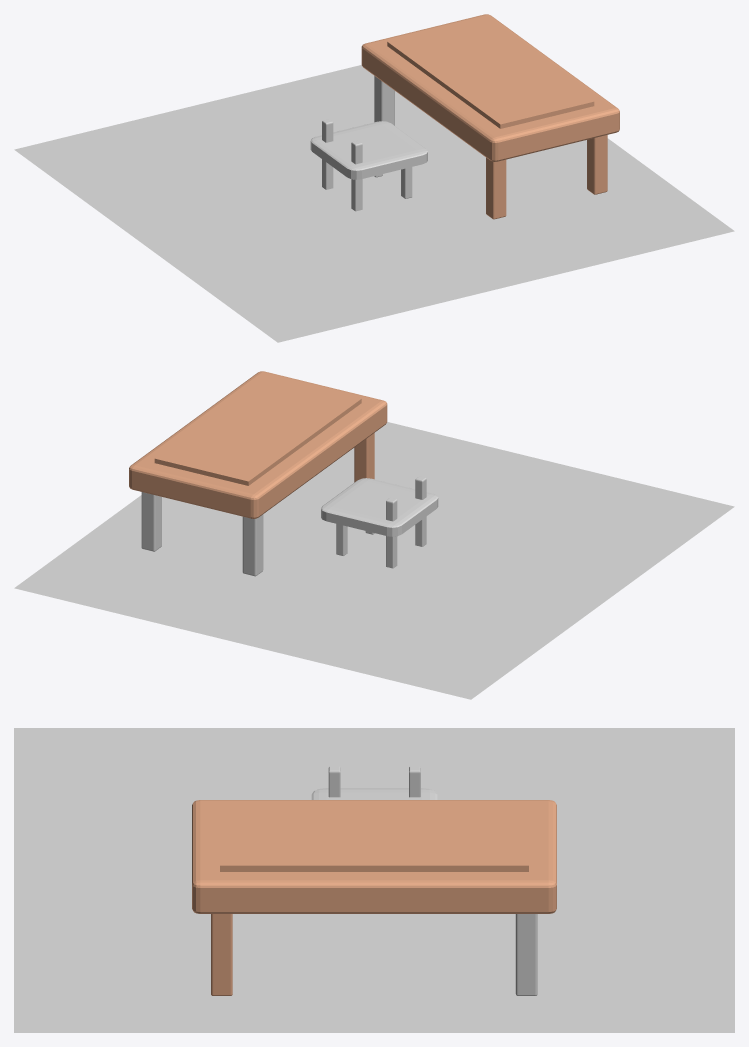
File: desk.glb
The picture shows the model from 3 angles, top to bottom: view 1: azimuth 30°, elevation 25°; view 2: azimuth 150°, elevation 25°; view 3: azimuth 270°, elevation 25°; orthographic projection. The views are drawn at different scales.
Visible parts, largest first — view 1: Plane, Cube, Cube.005, Cube.002, Cube.003, Cube.004, Cube.008, Cube.009; view 2: Plane, Cube, Cube.005, Cube.004, Cube.001, Cube.002, Cube.009, Cube.008; view 3: Plane, Cube, Cube.001, Cube.003, Cube.005.
Boxes of the visible parts, bbox=[...] form: Plane: bbox=[14, 65, 734, 342]; Cube: bbox=[361, 14, 619, 161]; Cube.005: bbox=[310, 121, 427, 179]; Cube.002: bbox=[486, 157, 506, 219]; Cube.003: bbox=[587, 135, 607, 194]; Cube.004: bbox=[374, 76, 394, 125]; Cube.008: bbox=[351, 140, 362, 211]; Cube.009: bbox=[322, 119, 333, 189]; Plane: bbox=[14, 422, 734, 699]; Cube: bbox=[129, 371, 387, 518]; Cube.005: bbox=[321, 478, 438, 536]; Cube.004: bbox=[242, 514, 263, 576]; Cube.001: bbox=[141, 492, 161, 551]; Cube.002: bbox=[354, 433, 374, 482]; Cube.009: bbox=[386, 498, 397, 568]; Cube.008: bbox=[415, 476, 426, 546]; Plane: bbox=[14, 728, 734, 1032]; Cube: bbox=[192, 800, 556, 913]; Cube.001: bbox=[515, 914, 537, 995]; Cube.003: bbox=[211, 914, 232, 995]; Cube.005: bbox=[311, 788, 437, 799].
Bounding box in the file's own units: 3.95 × 0.7597 × 3.95.
